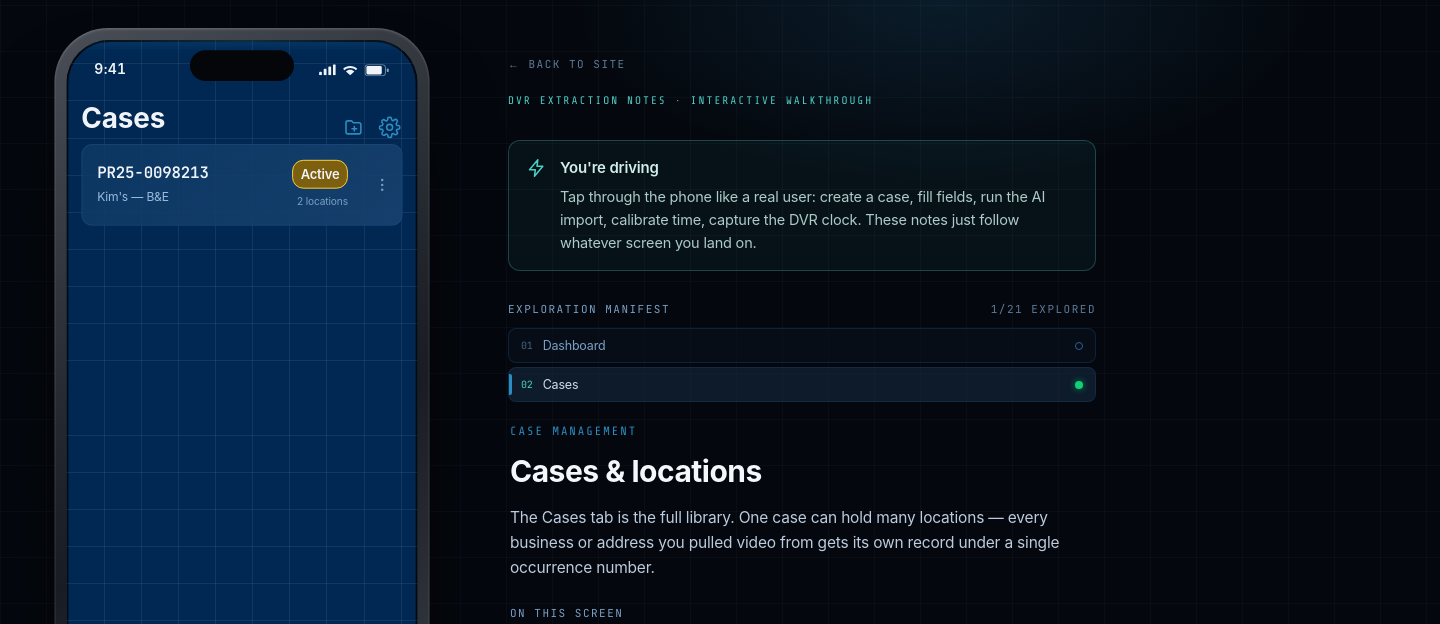
Test: DemoExperience — location action chooser › New Location w/ Sub Info (the copy-to-a-new-address flow) › numbers the default name past an existing "New Location"
The image size is (1440, 624).
Click the text "PR25-0098213". click: (153, 172)
box: [97, 162, 209, 182]
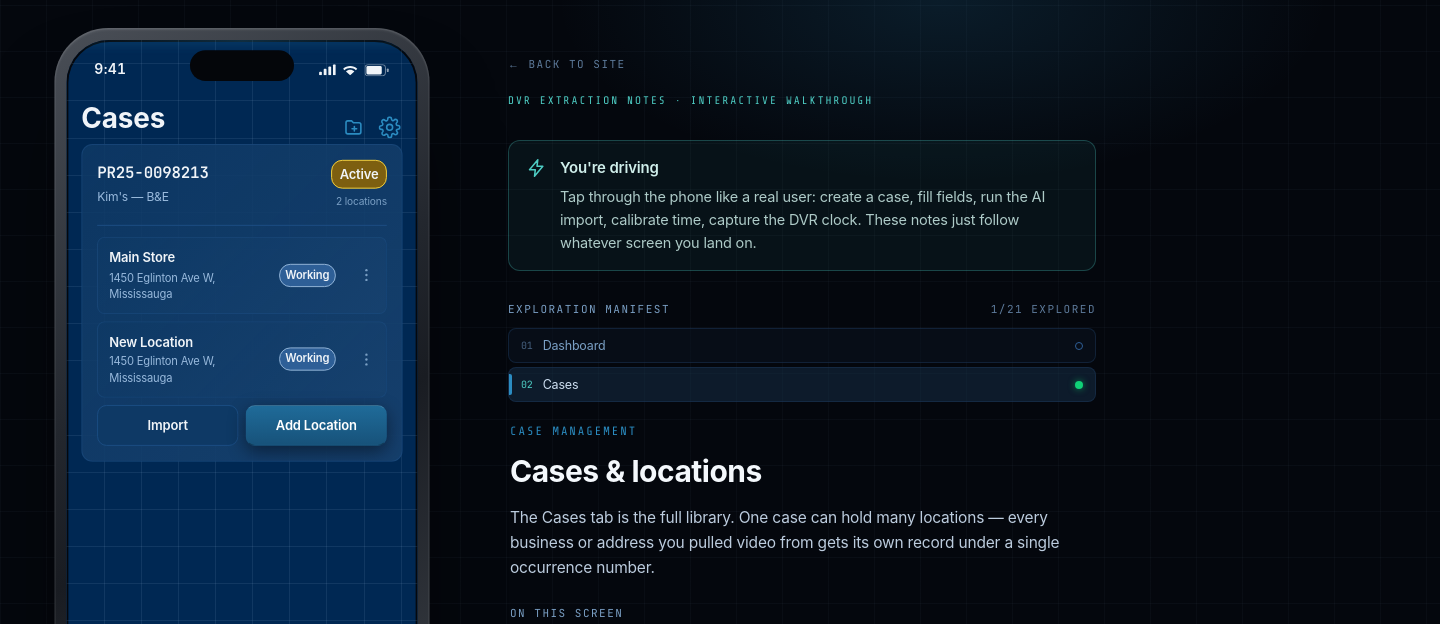
Click the button named "Actions for location Main Store". click: (366, 275)
box: [347, 238, 386, 313]
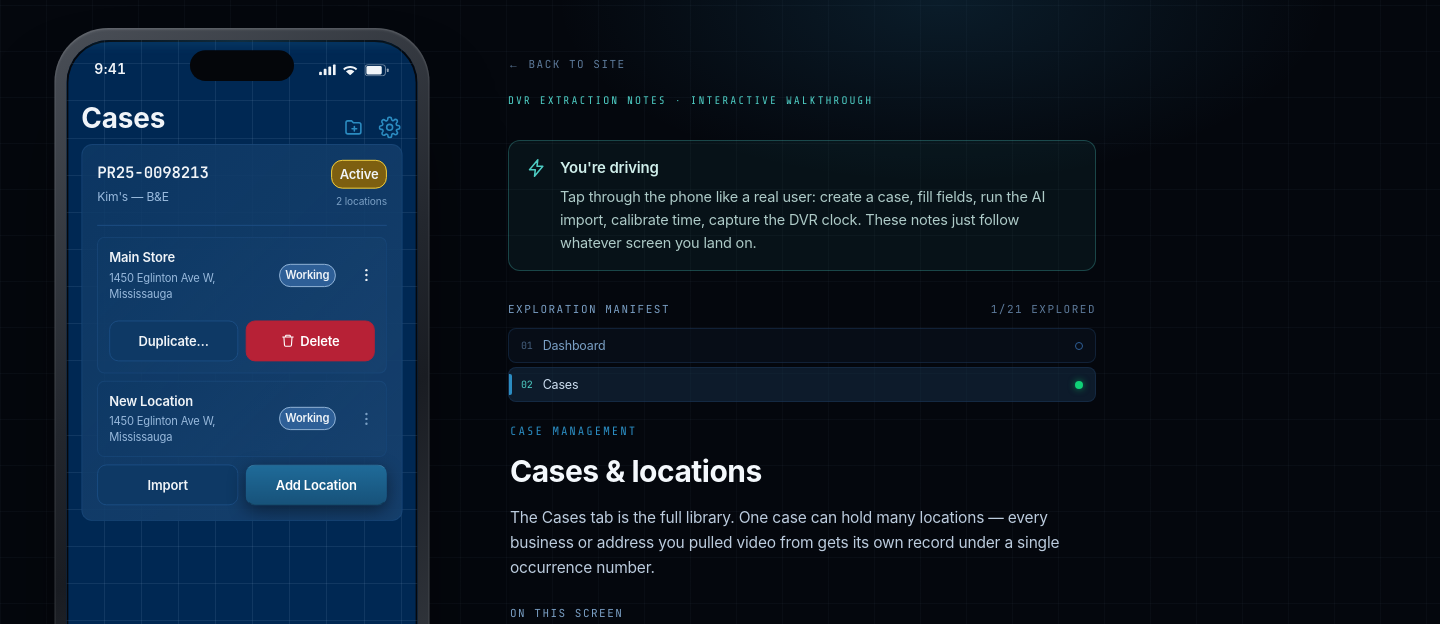
Click the button "Duplicate…". click: (174, 341)
box: [109, 320, 238, 361]
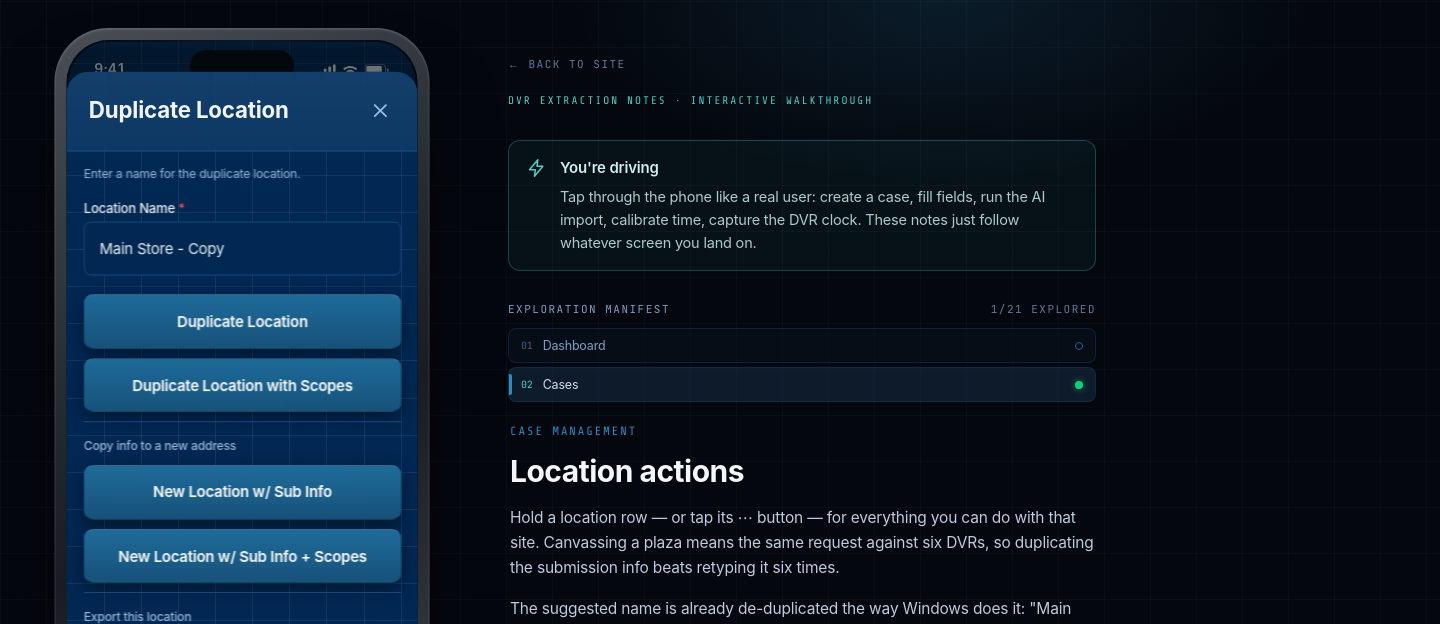
Click the button "New Location w/ Sub Info". click: (242, 492)
box: [83, 465, 401, 519]
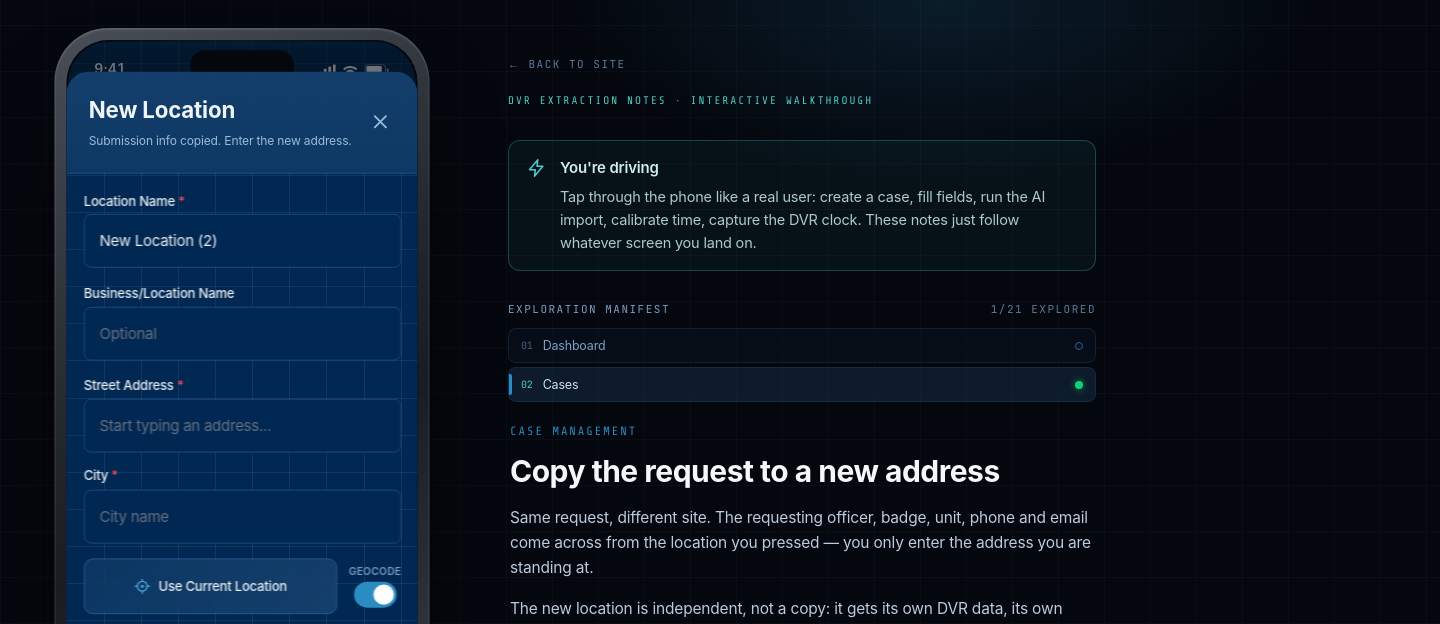
Check: the field named "Location Name" holds "New Location (2)", box [83, 214, 401, 268]
